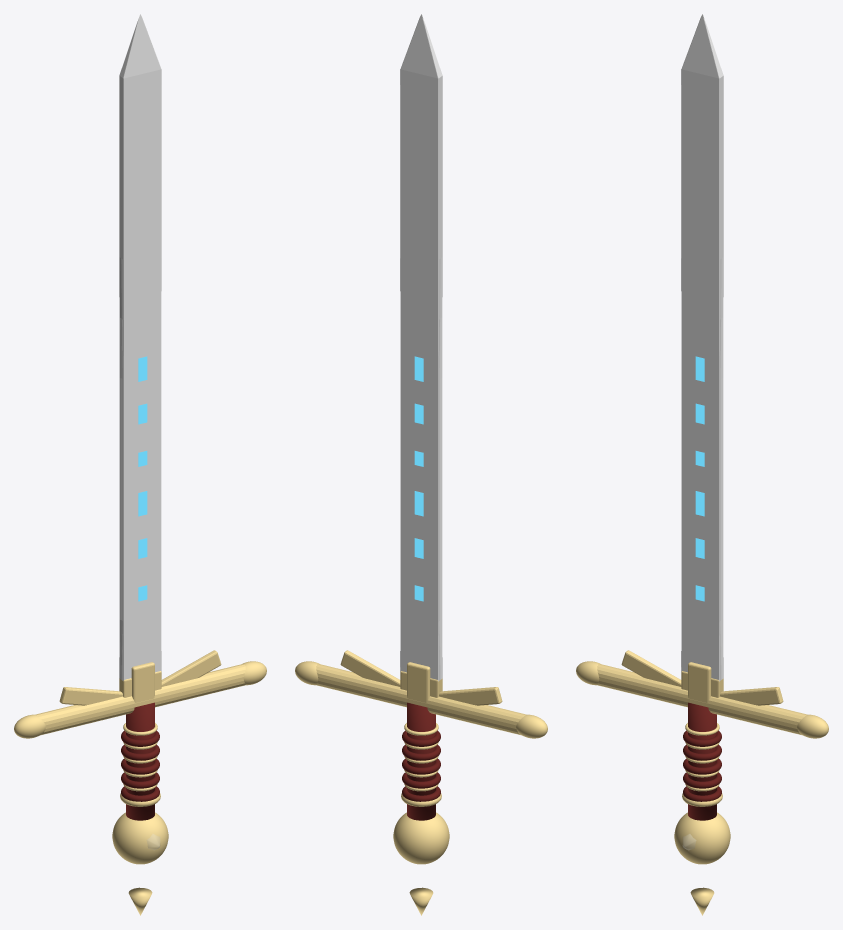
The model's file is GEO-fine_sword.glb.
3 renders of one model, left to right at view 1: azimuth 30°, elevation 25°; view 2: azimuth 150°, elevation 25°; view 3: azimuth 330°, elevation 25°, orthographic.
Visible parts, largest first — view 1: GEO-fine_blade, GEO-fine_guard_bar, GEO-fine_pommel, GEO-fine_grip, GEO-fine_guard_wing_R, GEO-fine_guard_wing_L, GEO-fine_guard_seat.001, GEO-fine_guard_tip_L; view 2: GEO-fine_blade, GEO-fine_guard_bar, GEO-fine_pommel, GEO-fine_grip, GEO-fine_guard_wing_R, GEO-fine_guard_wing_L, GEO-fine_guard_seat.001, GEO-fine_guard_tip_L; view 3: GEO-fine_blade, GEO-fine_guard_bar, GEO-fine_pommel, GEO-fine_grip, GEO-fine_guard_wing_L, GEO-fine_guard_wing_R, GEO-fine_guard_seat.001, GEO-fine_guard_tip_R.
Part boxes in pixels (x1,y1,x2,y2): GEO-fine_blade: [119, 14, 161, 681]; GEO-fine_guard_bar: [35, 664, 245, 735]; GEO-fine_pommel: [112, 812, 168, 864]; GEO-fine_grip: [126, 702, 154, 820]; GEO-fine_guard_wing_R: [161, 650, 221, 686]; GEO-fine_guard_wing_L: [59, 687, 122, 705]; GEO-fine_guard_seat.001: [131, 662, 154, 702]; GEO-fine_guard_tip_L: [14, 714, 45, 738]; GEO-fine_blade: [400, 14, 442, 681]; GEO-fine_guard_bar: [316, 664, 526, 735]; GEO-fine_pommel: [393, 812, 449, 864]; GEO-fine_grip: [407, 702, 435, 820]; GEO-fine_guard_wing_R: [340, 650, 400, 686]; GEO-fine_guard_wing_L: [439, 687, 502, 705]; GEO-fine_guard_seat.001: [407, 662, 430, 702]; GEO-fine_guard_tip_L: [516, 714, 547, 738]; GEO-fine_blade: [681, 14, 723, 681]; GEO-fine_guard_bar: [597, 664, 807, 735]; GEO-fine_pommel: [674, 812, 730, 864]; GEO-fine_grip: [688, 702, 716, 820]; GEO-fine_guard_wing_L: [621, 650, 681, 686]; GEO-fine_guard_wing_R: [720, 687, 783, 705]; GEO-fine_guard_seat.001: [688, 662, 711, 702]; GEO-fine_guard_tip_R: [797, 714, 828, 738].
Bounding box in the file's own units: 0.34 × 1.17 × 0.076.
